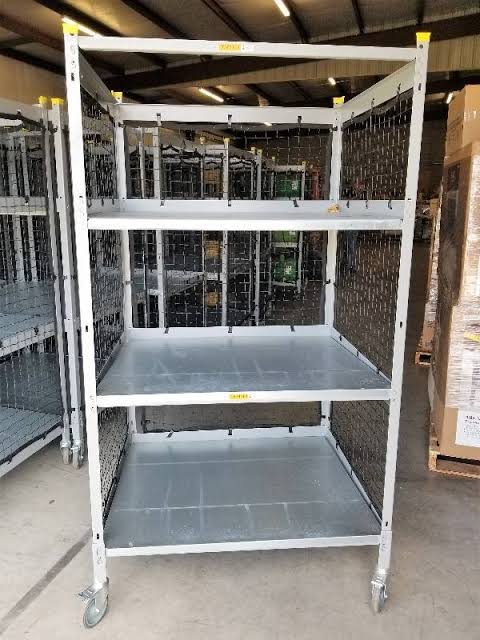Carts: (62, 15, 431, 628)
